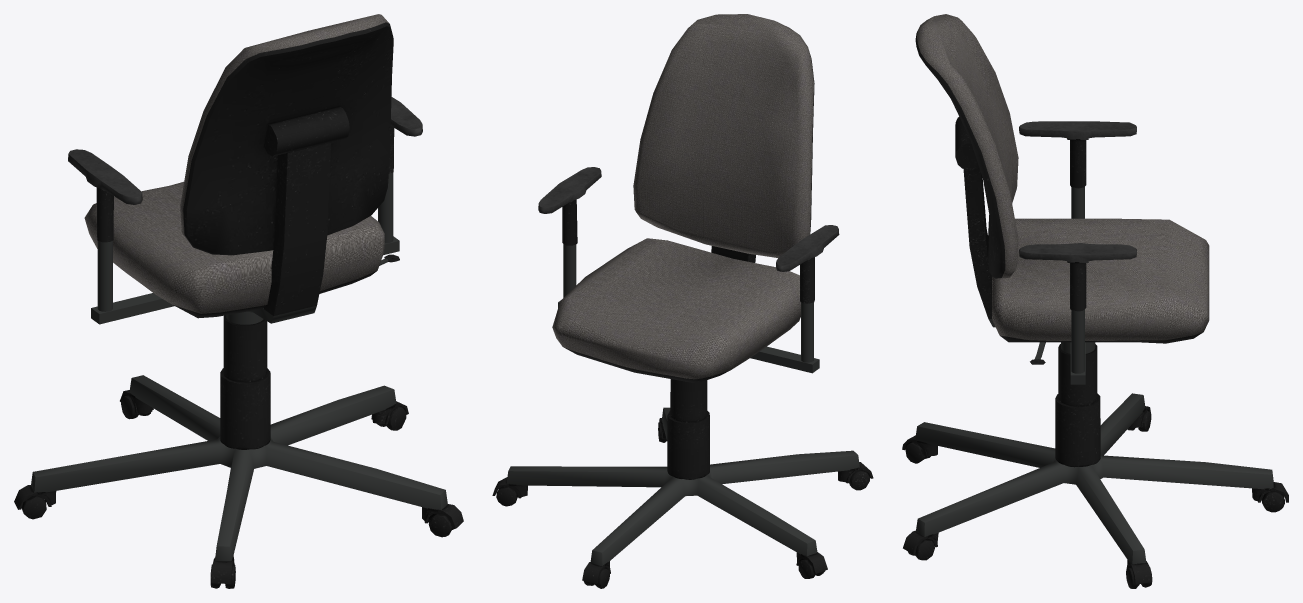
File: officeChair_hq.glb
3 renders of one model, left to right at view 1: azimuth 30°, elevation 25°; view 2: azimuth 150°, elevation 25°; view 3: azimuth 270°, elevation 25°, orthographic. The views are drawn at different scales.
Parts seen in each view (by area): view 1: OfficeChair_OfficeChairPlastic_0, OfficeChair_OfficeChairMetal_0, OfficeChair_OfficeChairCloth_0, OfficeChair_OfficeChairLeather_0; view 2: OfficeChair_OfficeChairCloth_0, OfficeChair_OfficeChairMetal_0, OfficeChair_OfficeChairPlastic_0, OfficeChair_OfficeChairLeather_0; view 3: OfficeChair_OfficeChairCloth_0, OfficeChair_OfficeChairMetal_0, OfficeChair_OfficeChairPlastic_0, OfficeChair_OfficeChairLeather_0.
Part boxes in pixels (bbox=[...]): OfficeChair_OfficeChairPlastic_0: bbox=[14, 22, 463, 588]; OfficeChair_OfficeChairMetal_0: bbox=[31, 172, 447, 561]; OfficeChair_OfficeChairCloth_0: bbox=[84, 14, 389, 313]; OfficeChair_OfficeChairLeather_0: bbox=[68, 97, 422, 204]; OfficeChair_OfficeChairCloth_0: bbox=[552, 14, 813, 379]; OfficeChair_OfficeChairMetal_0: bbox=[506, 244, 859, 566]; OfficeChair_OfficeChairPlastic_0: bbox=[492, 54, 873, 588]; OfficeChair_OfficeChairLeather_0: bbox=[538, 167, 839, 271]; OfficeChair_OfficeChairCloth_0: bbox=[917, 14, 1209, 340]; OfficeChair_OfficeChairMetal_0: bbox=[915, 187, 1273, 564]; OfficeChair_OfficeChairPlastic_0: bbox=[902, 31, 1288, 588]; OfficeChair_OfficeChairLeather_0: bbox=[1019, 121, 1136, 262].
Bounding box in the file's own units: 0.7732 × 1 × 0.7362.
4 materials, 3 textured.
